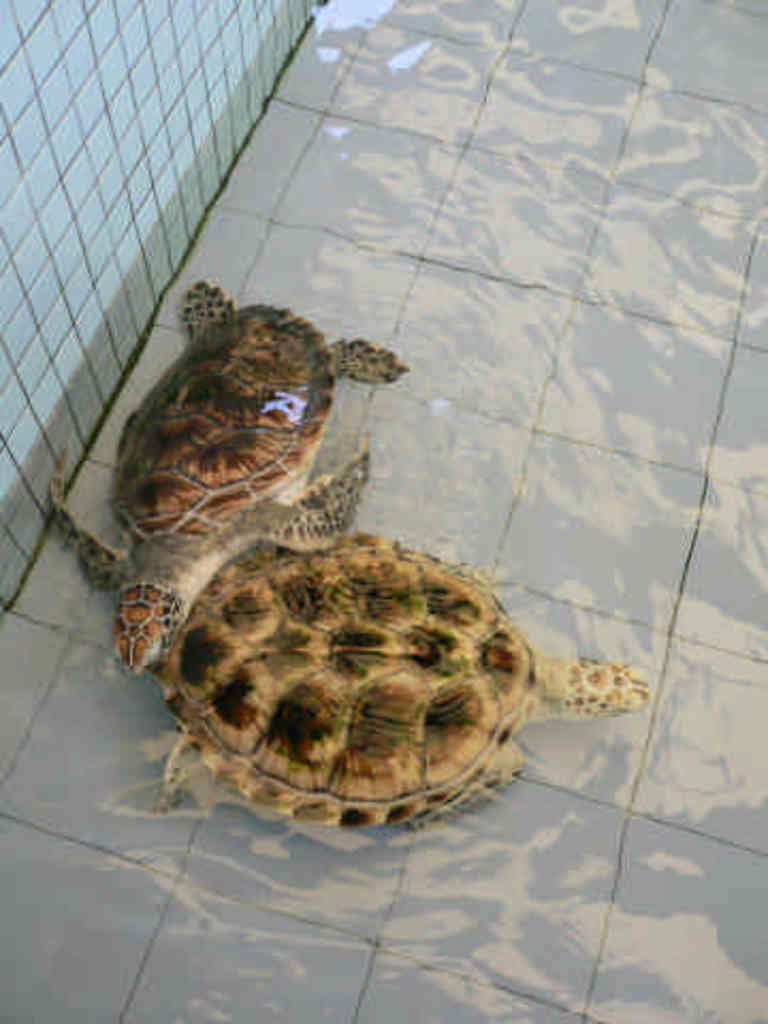Sea turtles: (147, 526, 661, 849), (44, 275, 409, 678)
